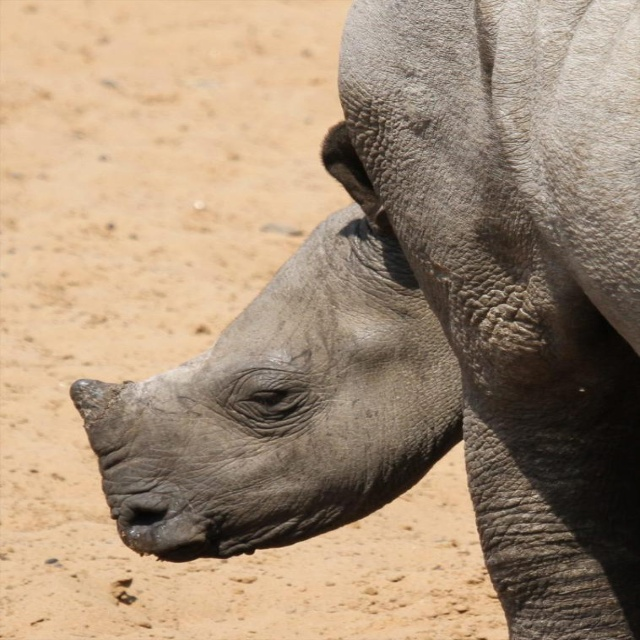Rhinoceros: (69, 0, 639, 639)
